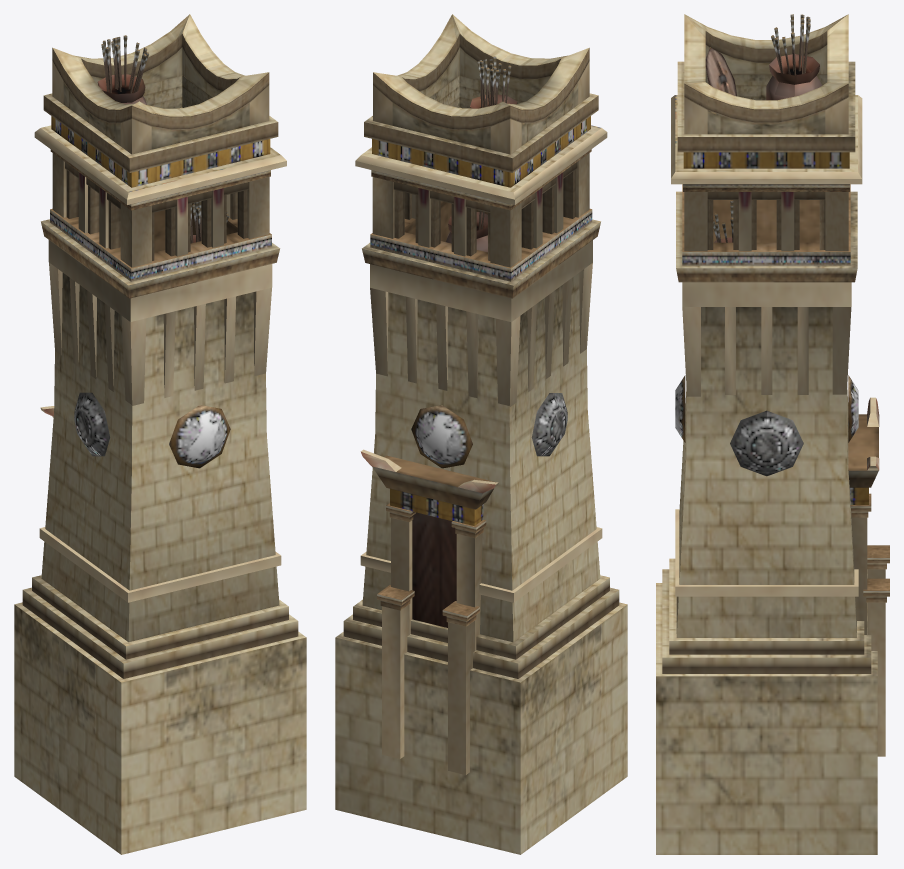
File: s_ptolemies_defense_tower.glb
3 views of the same model, side by side, from view 1: azimuth 30°, elevation 25°; view 2: azimuth 150°, elevation 25°; view 3: azimuth 270°, elevation 25° (orthographic). The views are drawn at different scales.
Parts seen in each view (by area): view 1: s_ptolemies_defense_tower_part0; view 2: s_ptolemies_defense_tower_part0; view 3: s_ptolemies_defense_tower_part0.
Boxes of the visible parts, <box> form: s_ptolemies_defense_tower_part0: <box>14,14,306,854</box>; s_ptolemies_defense_tower_part0: <box>335,14,627,854</box>; s_ptolemies_defense_tower_part0: <box>656,14,889,854</box>.
Size of the model in its own units: 2.08 by 8.05 by 2.2.
Materials: 1 (1 with a texture image).
